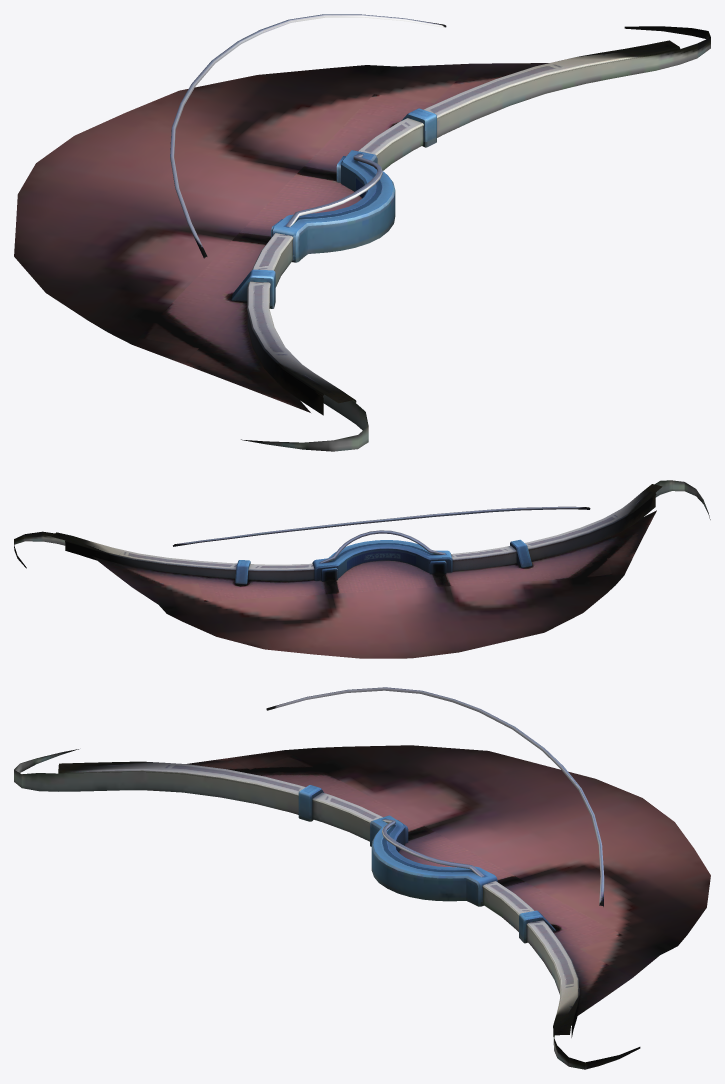
Rendered from pref_sm_4v4beachtech_bk_centerblock_R01c_lv1.fbx.
The picture shows the model from 3 angles, top to bottom: view 1: azimuth 30°, elevation 25°; view 2: azimuth 150°, elevation 25°; view 3: azimuth 270°, elevation 25°; orthographic projection. The views are drawn at different scales.
Parts seen in each view (by area): view 1: sm_4v4beachtech_bk_centerblock_R01c_lv1; view 2: sm_4v4beachtech_bk_centerblock_R01c_lv1; view 3: sm_4v4beachtech_bk_centerblock_R01c_lv1.
Part boxes in pixels (x1,y1,x2,y2): sm_4v4beachtech_bk_centerblock_R01c_lv1: (14, 14, 710, 451); sm_4v4beachtech_bk_centerblock_R01c_lv1: (14, 480, 710, 658); sm_4v4beachtech_bk_centerblock_R01c_lv1: (14, 687, 710, 1069).
Bounding box in the file's own units: 37.05 × 6.62 × 34.33.
